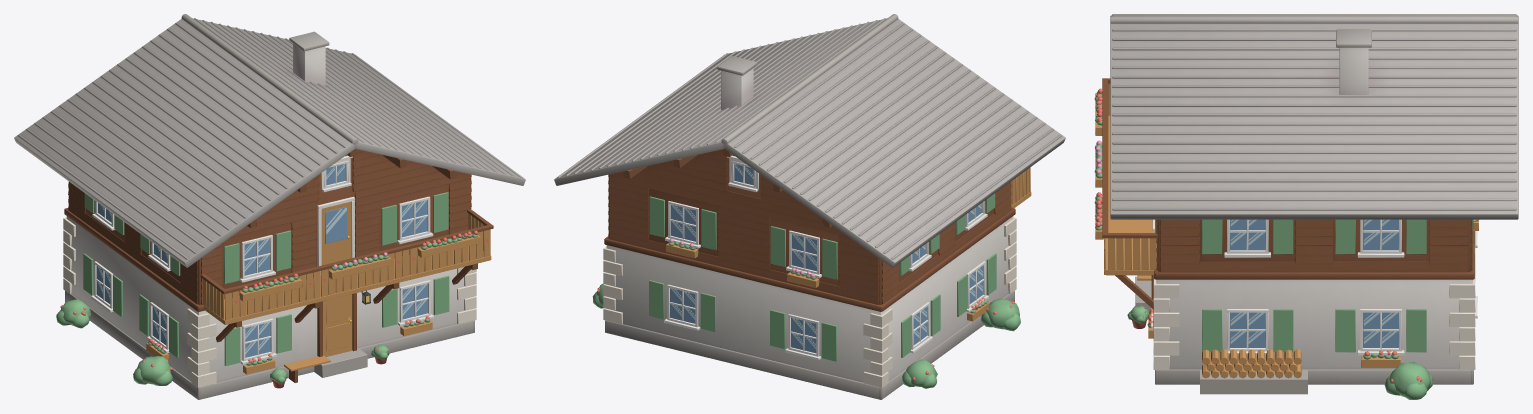
File: alpine-chalet.glb
3 renders of one model, left to right at view 1: azimuth 30°, elevation 25°; view 2: azimuth 150°, elevation 25°; view 3: azimuth 270°, elevation 25°, orthographic. The views are drawn at different scales.
Visible parts, largest first — view 1: alpine-chalet_body, alpine-chalet_details, alpine-chalet_plants, alpine-chalet_door_l, alpine-chalet_frame, alpine-chalet_flowers, alpine-chalet_glints; view 2: alpine-chalet_body, alpine-chalet_details, alpine-chalet_plants, alpine-chalet_glints; view 3: alpine-chalet_body, alpine-chalet_details, alpine-chalet_plants, alpine-chalet_flowers, alpine-chalet_glints, alpine-chalet_frame.
Part boxes in pixels (x1,y1,x2,y2): alpine-chalet_body: (14, 14, 525, 399); alpine-chalet_details: (63, 149, 493, 388); alpine-chalet_plants: (56, 299, 389, 385); alpine-chalet_door_l: (323, 294, 352, 356); alpine-chalet_frame: (314, 293, 367, 377); alpine-chalet_flowers: (148, 230, 477, 365); alpine-chalet_glints: (97, 164, 488, 354); alpine-chalet_body: (554, 14, 1065, 399); alpine-chalet_details: (603, 149, 1031, 387); alpine-chalet_plants: (592, 284, 1020, 388); alpine-chalet_glints: (671, 164, 982, 349); alpine-chalet_body: (1110, 14, 1518, 384); alpine-chalet_details: (1095, 78, 1478, 394); alpine-chalet_plants: (1127, 305, 1433, 399); alpine-chalet_flowers: (1094, 88, 1478, 359); alpine-chalet_glints: (1104, 219, 1397, 343); alpine-chalet_frame: (1135, 275, 1153, 311).
Bounding box in the file's own units: 11.46 × 7.96 × 10.18.
Materials: 21 (1 with a texture image).
